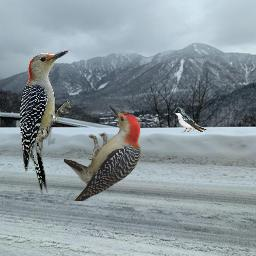Swallow: (173, 107, 207, 133)
Woodpecker: (20, 47, 73, 197), (64, 105, 144, 201)
